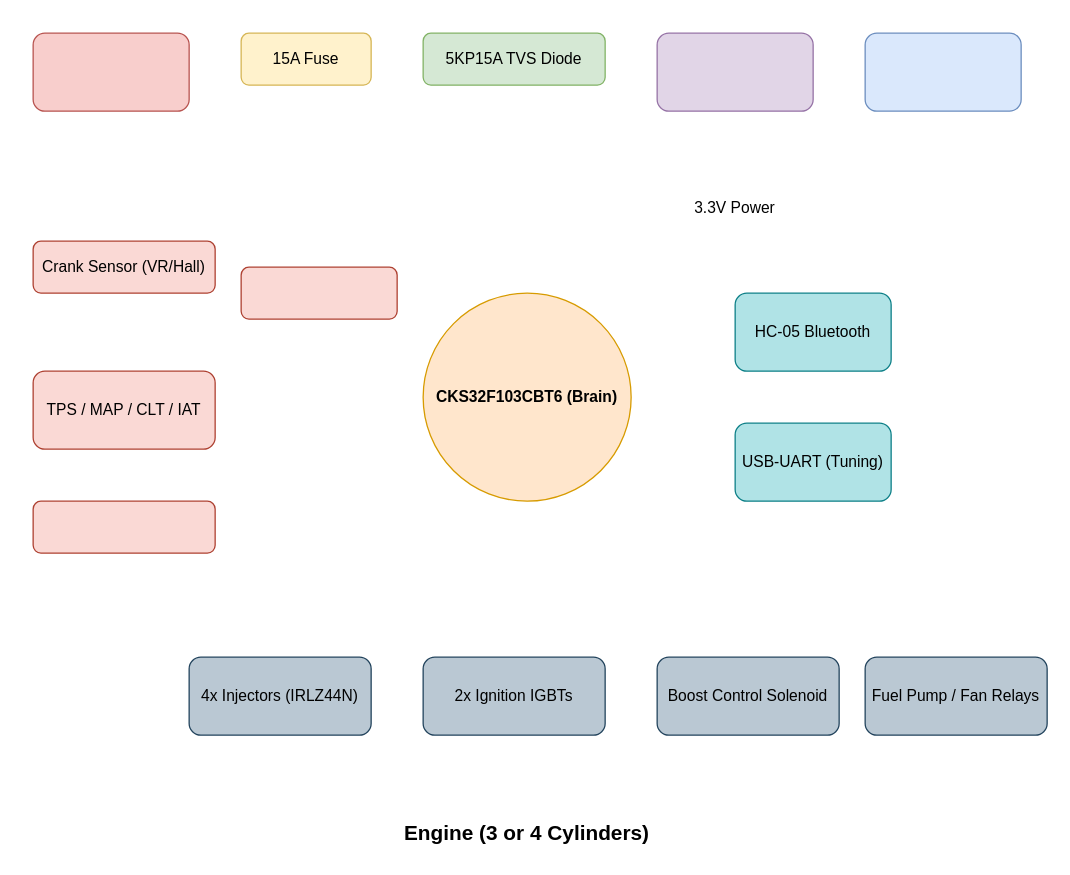
The diagram is 1070 pixels wide and 875 high, and some of its shapes have lost their labels. Each missing label, with the box of its shape:
12V Battery: (32, 32, 189, 111)
AMS1117 (3.3V Reg): (864, 32, 1021, 111)
LM2940 (5V Reg): (656, 32, 813, 111)
MAX9926 Conditioner: (240, 266, 397, 319)
Wideband O2: (32, 500, 215, 553)
